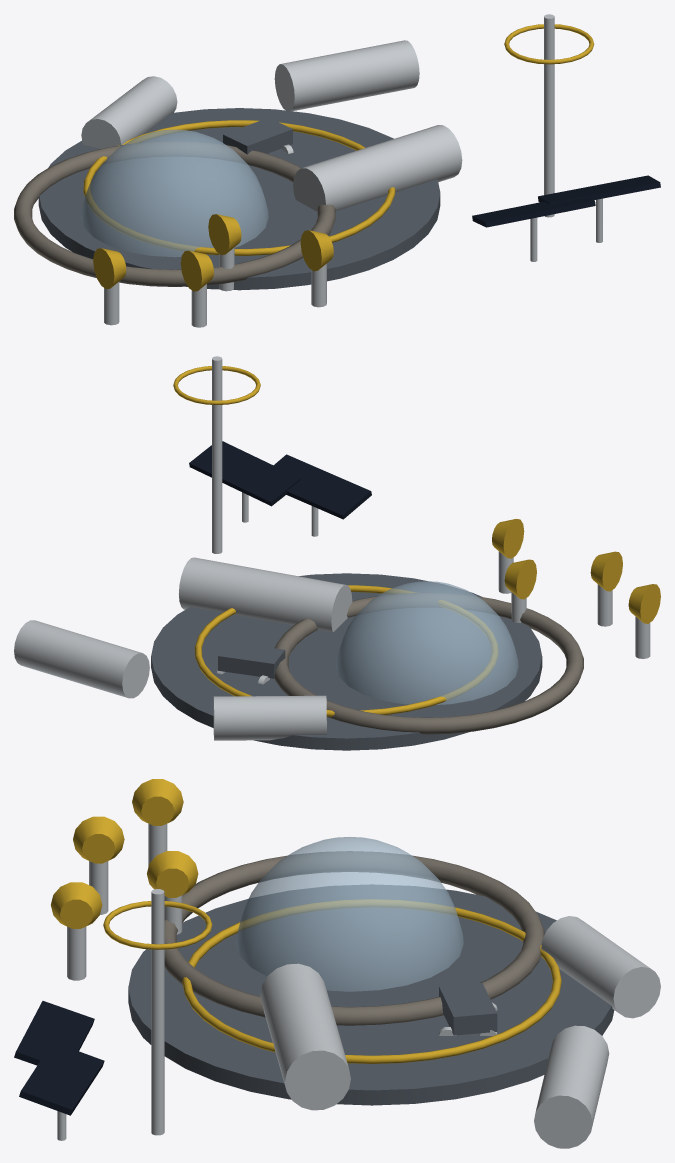
Rendered from tycho.glb.
The picture shows the model from 3 angles, top to bottom: view 1: azimuth 30°, elevation 25°; view 2: azimuth 150°, elevation 25°; view 3: azimuth 270°, elevation 25°; orthographic projection. The views are drawn at different scales.
Visible parts, largest first — view 1: optimized lunar city glb; view 2: optimized lunar city glb; view 3: optimized lunar city glb.
Boxes of the visible parts, x1,y1,x2,y2 form: optimized lunar city glb: (14,14,660,327); optimized lunar city glb: (14,356,660,750); optimized lunar city glb: (14,779,660,1148).
Bounding box in the file's own units: 1.93 × 0.7225 × 1.75.
